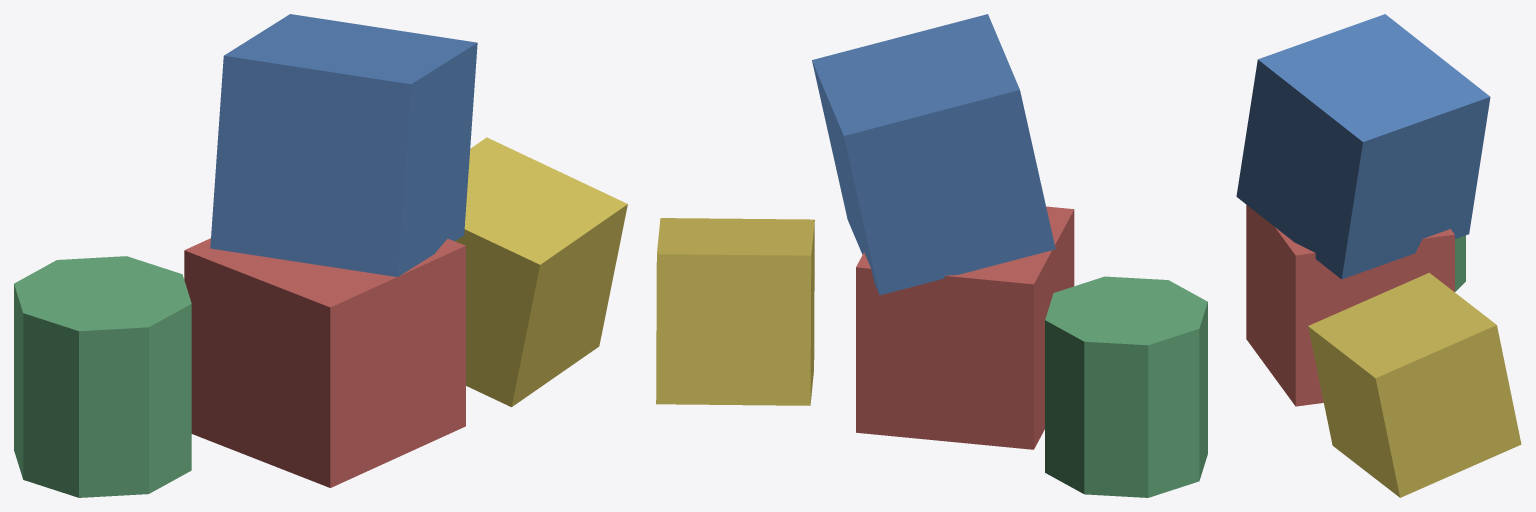
Rendered from kids_blocos.glb.
The picture shows the model from 3 angles, left to right: view 1: azimuth 30°, elevation 25°; view 2: azimuth 150°, elevation 25°; view 3: azimuth 270°, elevation 25°; orthographic projection. The views are drawn at different scales.
Parts seen in each view (by area): view 1: KIDS_BLOCOS_v01; view 2: KIDS_BLOCOS_v01; view 3: KIDS_BLOCOS_v01.
Part boxes in pixels (x1=…): KIDS_BLOCOS_v01: x1=14, y1=14, x2=627, y2=497; KIDS_BLOCOS_v01: x1=656, y1=14, x2=1207, y2=497; KIDS_BLOCOS_v01: x1=1236, y1=14, x2=1521, y2=497.
Bounding box in the file's own units: 0.4493 × 0.2814 × 0.2223.
